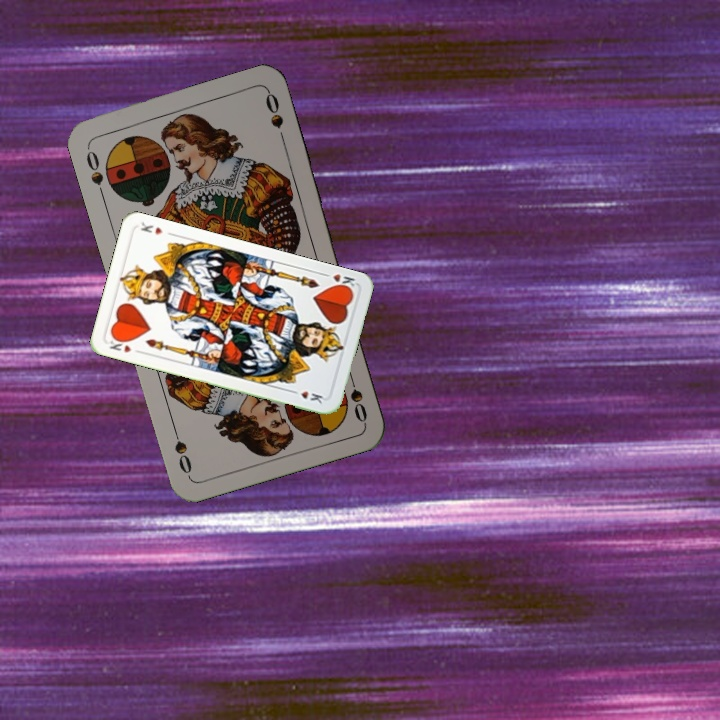HK: (318, 269, 358, 293), (104, 333, 134, 355)
SO: (344, 367, 370, 425), (82, 142, 107, 200)
